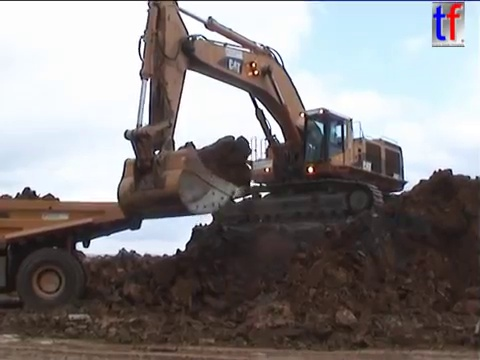excavator: (112, 1, 412, 235)
truck: (1, 194, 157, 320)
